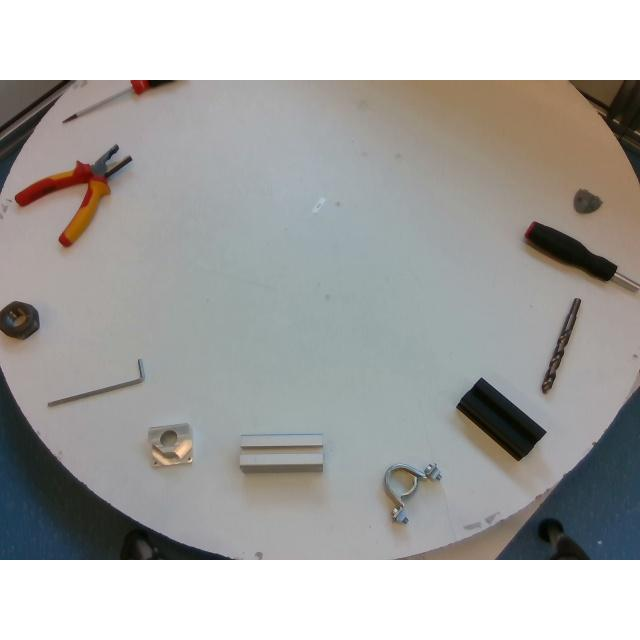Drill: (540, 298, 580, 392)
Housing: (384, 464, 440, 524)
M30: (1, 302, 40, 338)
S40_40_B: (456, 378, 546, 460)
S40_40_G: (238, 434, 324, 471)
